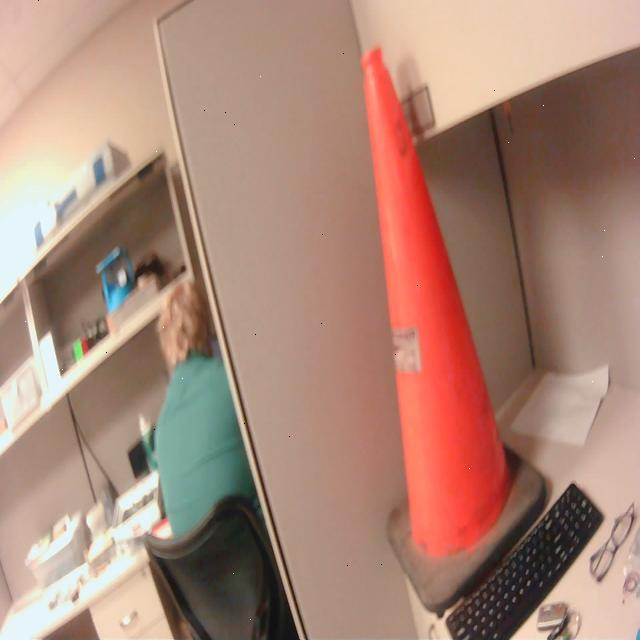traffic cone: (357, 42, 553, 625)
